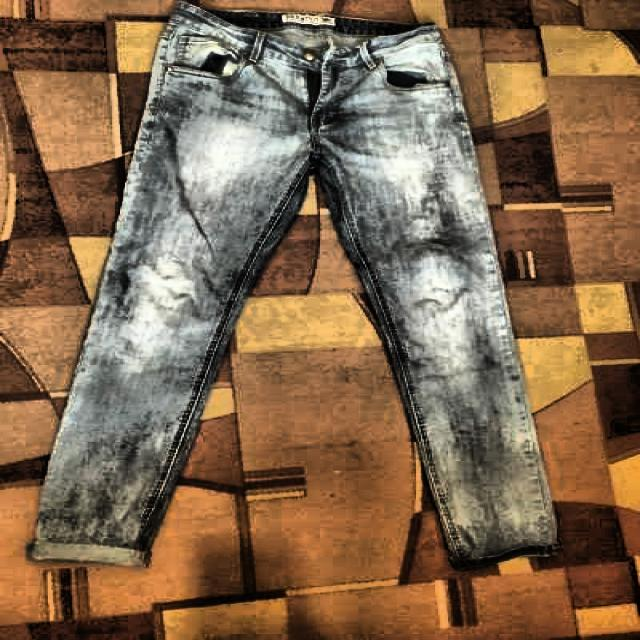clothes: (29, 0, 566, 575)
